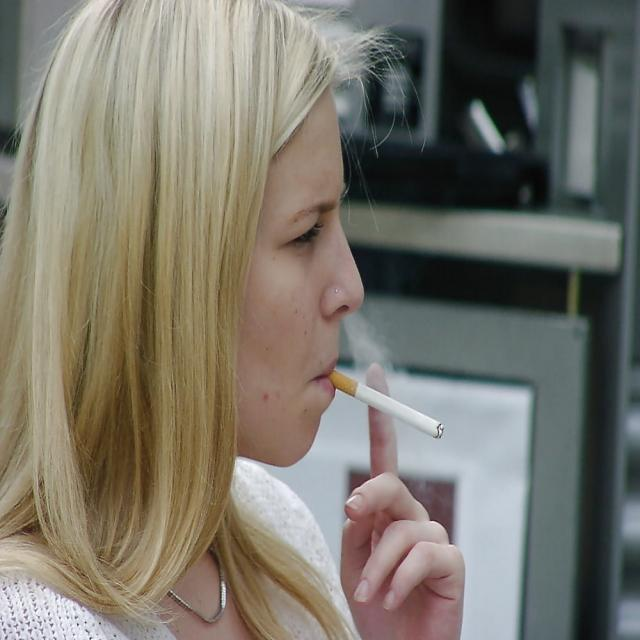smoke: (328, 368, 447, 447)
